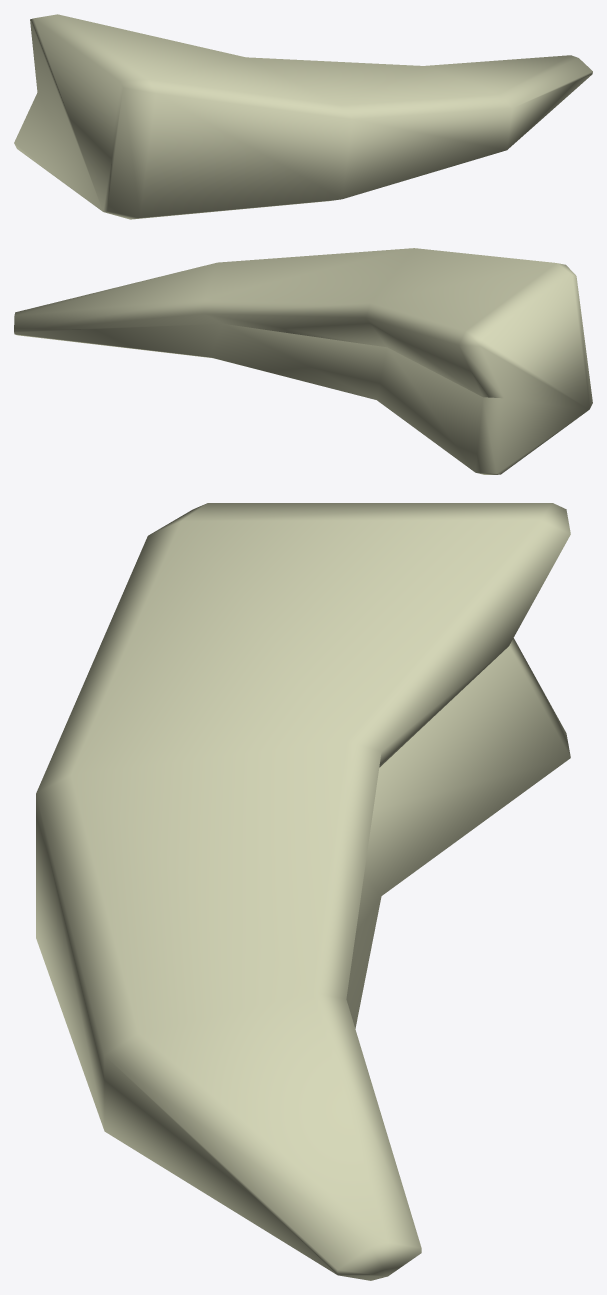
Rendered from SM_ArenaBoundary_Tooth.fbx.
3 views of the same model, one above another, from view 1: azimuth 30°, elevation 25°; view 2: azimuth 150°, elevation 25°; view 3: azimuth 270°, elevation 25° (orthographic). The views are drawn at different scales.
Visible parts, largest first — view 1: BasiliskArena_Bone_Var2; view 2: BasiliskArena_Bone_Var2; view 3: BasiliskArena_Bone_Var2.
Boxes of the visible parts, <box> form: BasiliskArena_Bone_Var2: <box>14,14,592,219</box>; BasiliskArena_Bone_Var2: <box>14,248,592,474</box>; BasiliskArena_Bone_Var2: <box>36,503,570,1280</box>.
Size of the model in its own units: 89.5 by 24.23 by 39.69.
